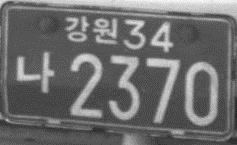0: (184, 61, 219, 126)
2: (69, 51, 103, 119)
3: (108, 54, 140, 120), (122, 17, 147, 50)
4: (150, 21, 173, 51)
7: (144, 57, 180, 123)
강원_O: (63, 14, 118, 46)
나: (16, 50, 54, 93)
